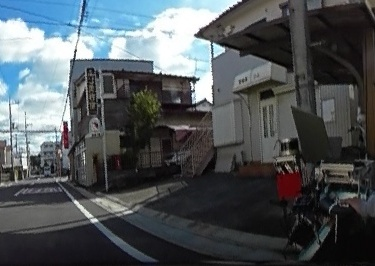person: (344, 45, 375, 266)
